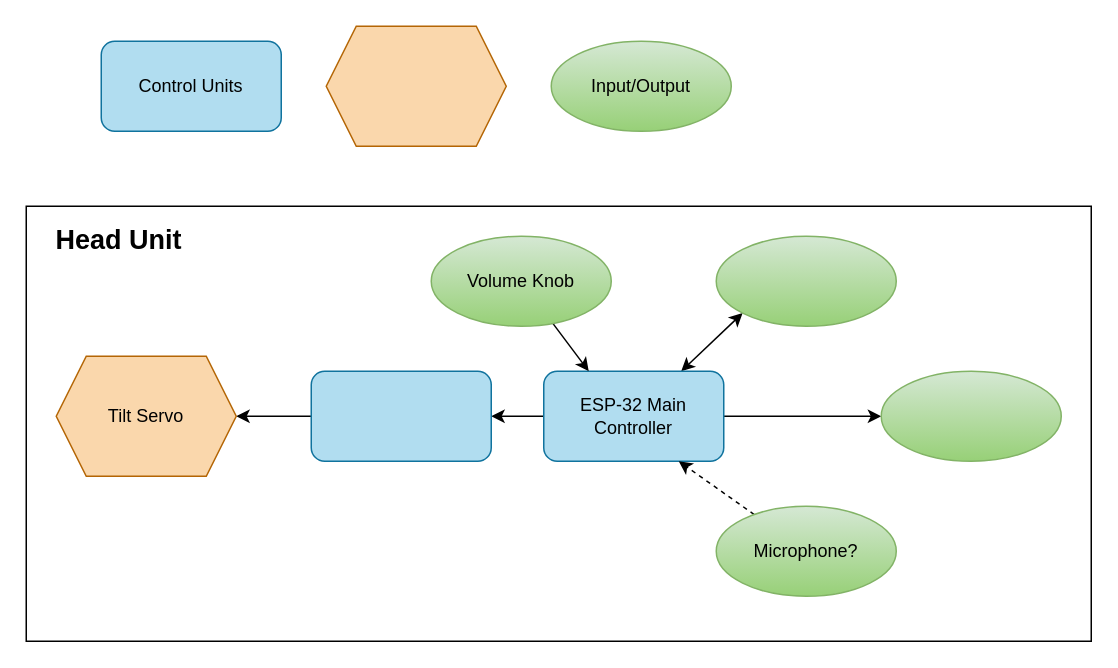
The diagram is 1118 pixels wide and 668 high, and some of its shapes have lost their labels. The box of each missing label's shape, as (x1, y1, x2, y2) in pixels:
Motor Controller: (310, 370, 491, 461)
Motors: (325, 25, 506, 146)
Speaker: (880, 370, 1061, 461)
Touch Screen: (715, 235, 896, 326)
